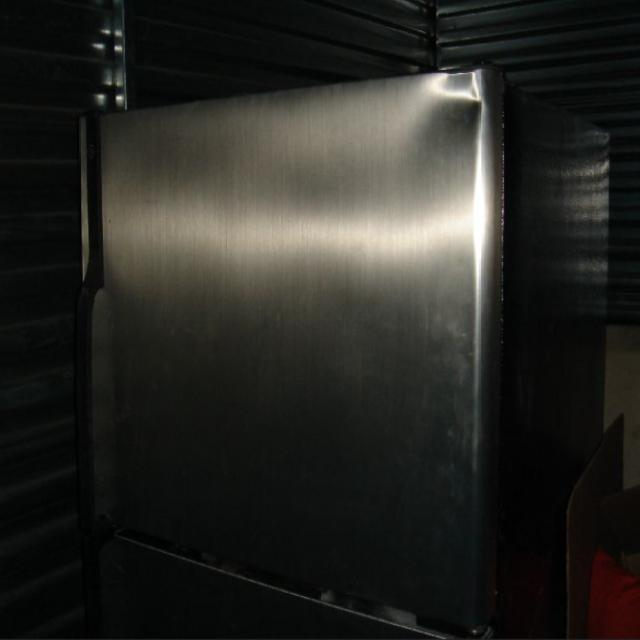dents: (426, 76, 479, 187)
